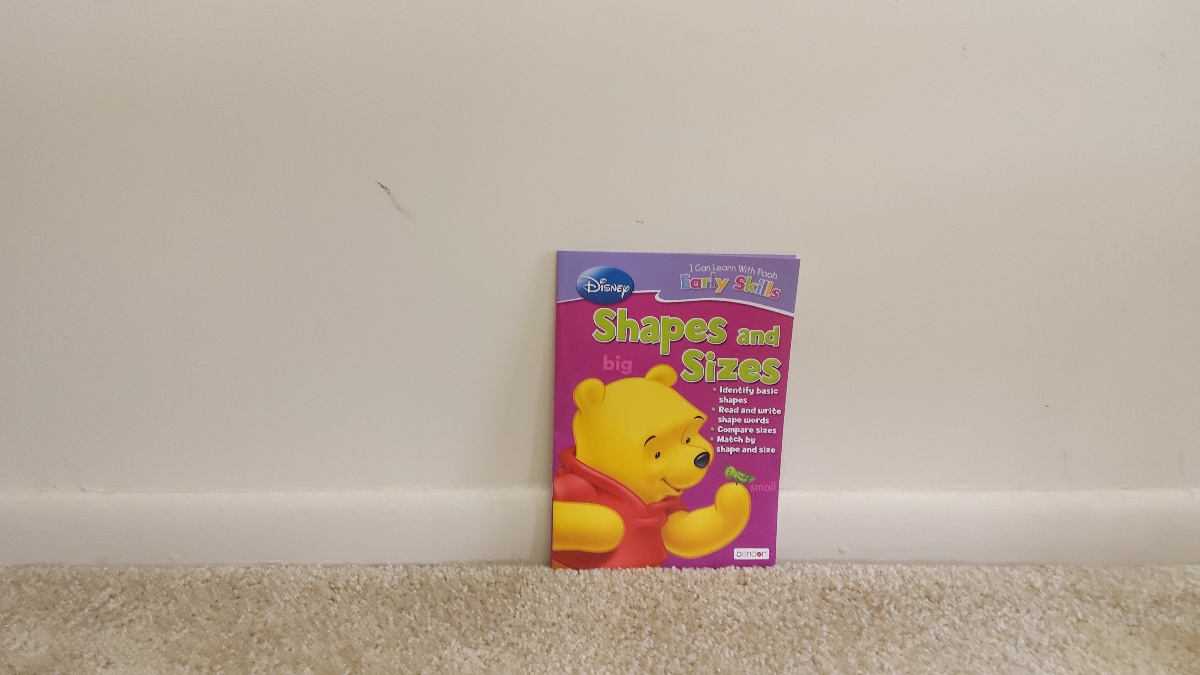book: (556, 251, 776, 569)
